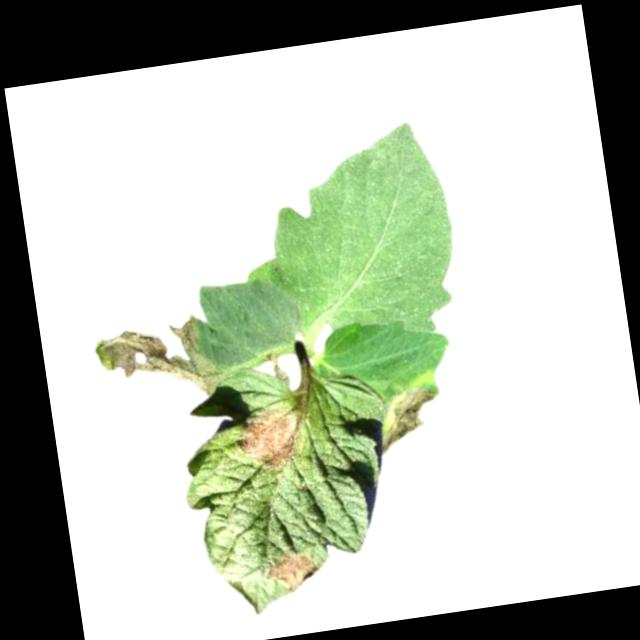Late_blight: (91, 310, 226, 412), (371, 368, 454, 455), (232, 400, 313, 474), (260, 547, 323, 599)
healthy: (228, 116, 474, 356)
